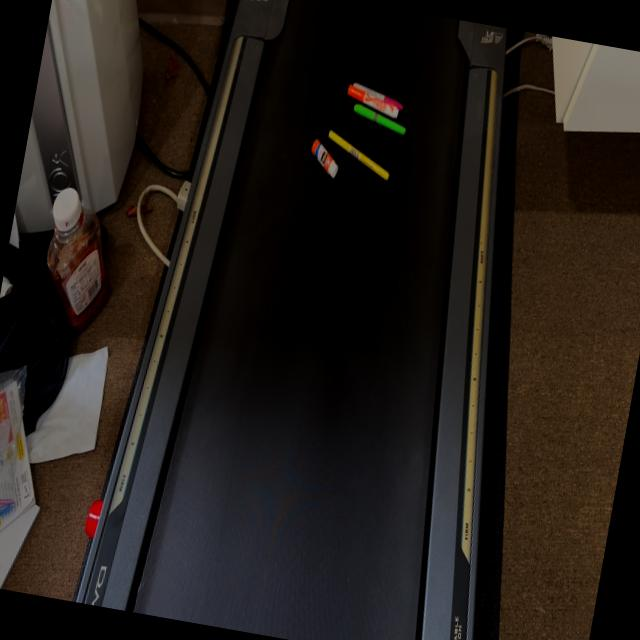Trash: (304, 68, 418, 194)
